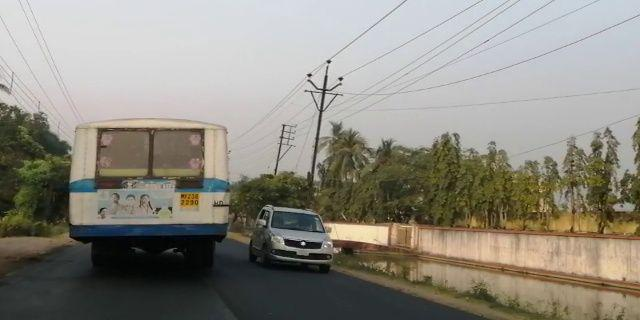Bus: (61, 114, 235, 273)
Car: (247, 200, 340, 272)
